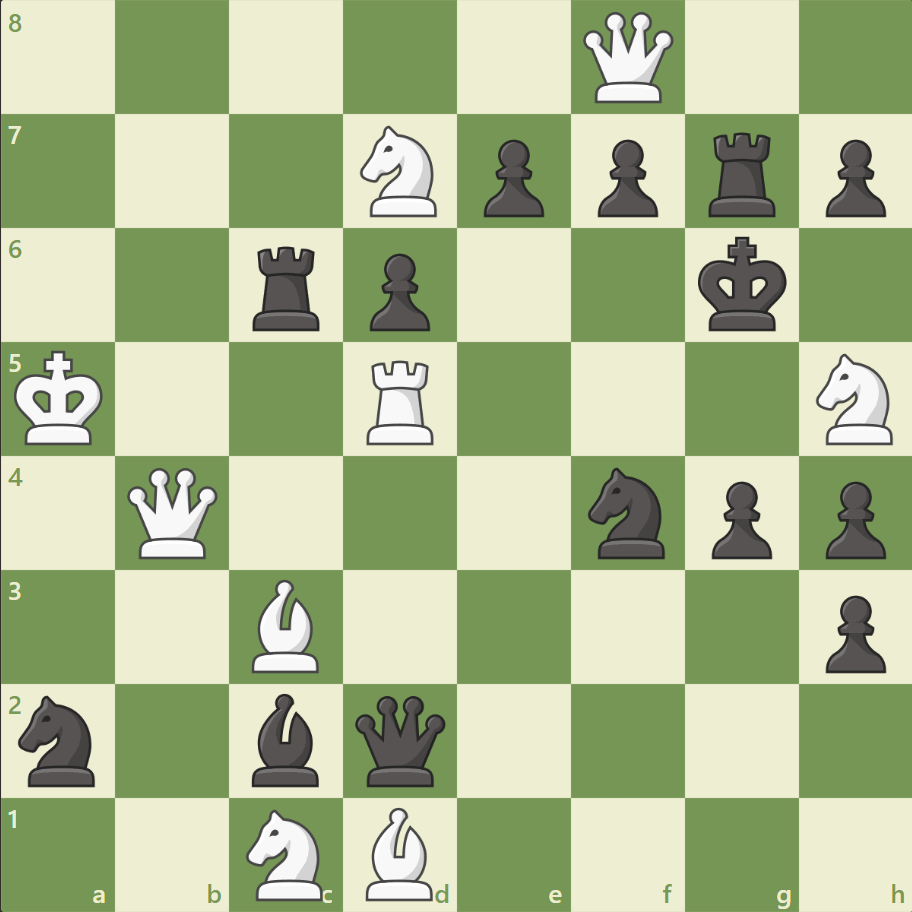B: (358, 801, 442, 904), (244, 574, 328, 676)
K: (11, 344, 111, 452)
N: (351, 121, 449, 223), (806, 348, 903, 450), (238, 802, 335, 904)
Q: (578, 9, 677, 108), (124, 463, 223, 562)
R: (360, 352, 442, 449)
b: (244, 687, 328, 790)
k: (692, 231, 792, 339)
n: (579, 461, 676, 564), (11, 688, 108, 791)
p: (474, 132, 549, 223), (701, 473, 776, 564), (588, 132, 662, 223), (815, 132, 889, 223), (361, 246, 435, 337), (815, 473, 889, 564), (815, 586, 889, 677)
q: (351, 690, 450, 789)
r: (700, 125, 783, 222), (246, 239, 329, 336)
